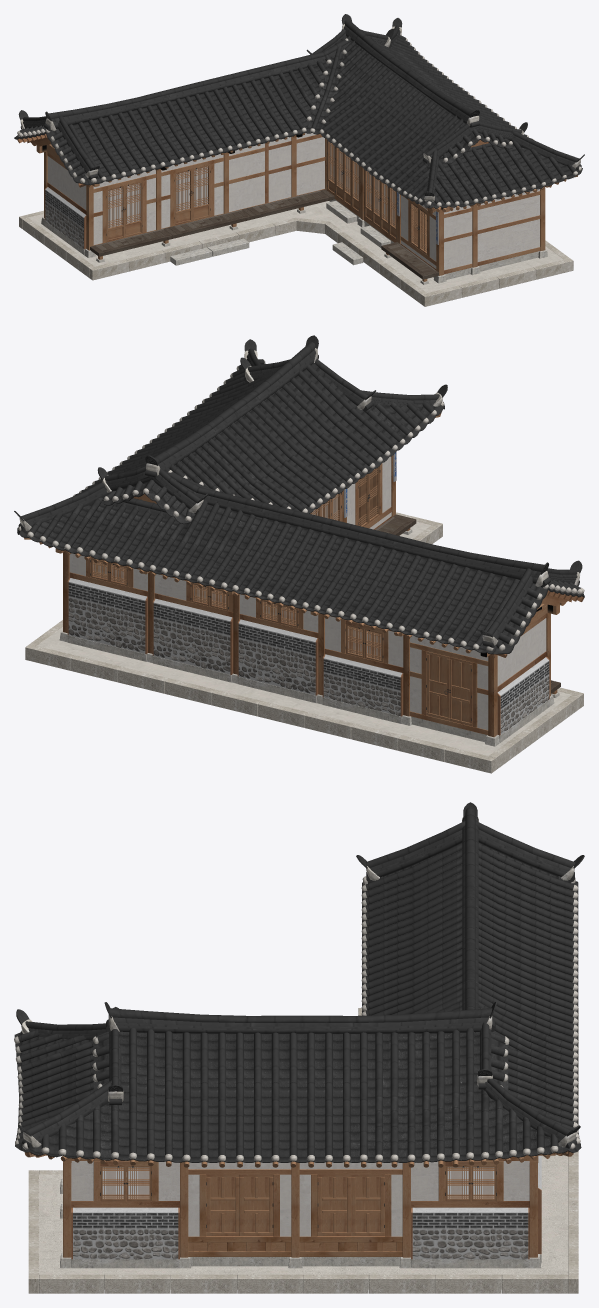
File: anchae.glb
3 renders of one model, top to bottom at view 1: azimuth 30°, elevation 25°; view 2: azimuth 150°, elevation 25°; view 3: azimuth 270°, elevation 25°, orthographic. The views are drawn at different scales.
Visible parts, largest first — view 1: SM_Baeryeom_Roof_01A_001, SM_Baeryeom_Kidan_01A_001, SM_Baeryeom_Wall_08B_001, SM_Baeryeom_Wall_18B_001, SM_Baeryeom_Maru_01A_001, SM_Baeryeom_Wall_01A_001, SM_Baeryeom_Wall_01A_002, SM_Baeryeom_Wall_09B_001, SM_Baeryeom_Wall_08C_001, SM_Baeryeom_Wall_09B_003, SM_Baeryeom_Wall_10B_001, SM_Baeryeom_Wall_17B_001 (+20 smaller); view 2: SM_Baeryeom_Roof_01A_001, SM_Baeryeom_Kidan_01A_001, SM_Baeryeom_Wall_04C_002, SM_Baeryeom_Wall_04C_003, SM_Baeryeom_Wall_04C_001, SM_Baeryeom_Wall_07C_001, SM_Baeryeom_Wall_01A_003, SM_Baeryeom_Wall_08C_001, SM_Baeryeom_Wall_16B_001, SM_Baeryeom_Wall_17B_001, SM_Baeryeom_Door_02C_002, SM_Baeryeom_Door_01C_002 (+9 smaller); view 3: SM_Baeryeom_Roof_01A_001, SM_Baeryeom_Kidan_01A_001, SM_Baeryeom_Wall_05C_001, SM_Baeryeom_Wall_06C_001, SM_Baeryeom_Wall_04A_001, SM_Baeryeom_Wall_04A_002, SM_Baeryeom_Wall_12B_001, SM_Baeryeom_Wall_11B_001, SM_Baeryeom_Door_03C_002, SM_Baeryeom_Door_04C_001, SM_Baeryeom_Door_03C_001, SM_Baeryeom_Door_04C_002 (+9 smaller).
Boxes of the visible parts, <box> form: SM_Baeryeom_Roof_01A_001: <box>14,14,584,213</box>; SM_Baeryeom_Kidan_01A_001: <box>19,201,573,306</box>; SM_Baeryeom_Wall_08B_001: <box>477,189,540,271</box>; SM_Baeryeom_Wall_18B_001: <box>229,137,291,212</box>; SM_Baeryeom_Maru_01A_001: <box>90,189,334,256</box>; SM_Baeryeom_Wall_01A_001: <box>93,169,156,245</box>; SM_Baeryeom_Wall_01A_002: <box>161,153,223,228</box>; SM_Baeryeom_Wall_09B_001: <box>444,205,472,279</box>; SM_Baeryeom_Wall_08C_001: <box>44,186,86,254</box>; SM_Baeryeom_Wall_09B_003: <box>296,133,325,195</box>; SM_Baeryeom_Wall_10B_001: <box>400,195,436,277</box>; SM_Baeryeom_Wall_17B_001: <box>47,152,86,214</box>; SM_Baeryeom_Roof_01A_001: <box>14,335,584,657</box>; SM_Baeryeom_Kidan_01A_001: <box>25,512,583,773</box>; SM_Baeryeom_Wall_04C_002: <box>152,598,233,682</box>; SM_Baeryeom_Wall_04C_003: <box>237,619,318,703</box>; SM_Baeryeom_Wall_04C_001: <box>67,577,147,661</box>; SM_Baeryeom_Wall_07C_001: <box>322,654,403,723</box>; SM_Baeryeom_Wall_01A_003: <box>409,635,488,742</box>; SM_Baeryeom_Wall_08C_001: <box>497,656,549,742</box>; SM_Baeryeom_Wall_16B_001: <box>324,614,403,672</box>; SM_Baeryeom_Wall_17B_001: <box>497,614,546,691</box>; SM_Baeryeom_Door_02C_002: <box>449,657,472,726</box>; SM_Baeryeom_Door_01C_002: <box>426,651,449,720</box>; SM_Baeryeom_Roof_01A_001: <box>14,802,584,1167</box>; SM_Baeryeom_Kidan_01A_001: <box>28,1008,578,1293</box>; SM_Baeryeom_Wall_05C_001: <box>411,1207,529,1268</box>; SM_Baeryeom_Wall_06C_001: <box>71,1207,179,1268</box>; SM_Baeryeom_Wall_04A_001: <box>188,1162,291,1266</box>; SM_Baeryeom_Wall_04A_002: <box>299,1162,402,1266</box>; SM_Baeryeom_Wall_12B_001: <box>411,1155,529,1207</box>; SM_Baeryeom_Wall_11B_001: <box>71,1158,179,1207</box>; SM_Baeryeom_Door_03C_002: <box>317,1174,351,1235</box>; SM_Baeryeom_Door_04C_001: <box>239,1174,273,1235</box>; SM_Baeryeom_Door_03C_001: <box>206,1174,239,1235</box>; SM_Baeryeom_Door_04C_002: <box>351,1174,384,1235</box>.
Bounding box in the file's own units: 13.18 × 5.15 × 11.14.
Materials: 16 (16 with a texture image).
